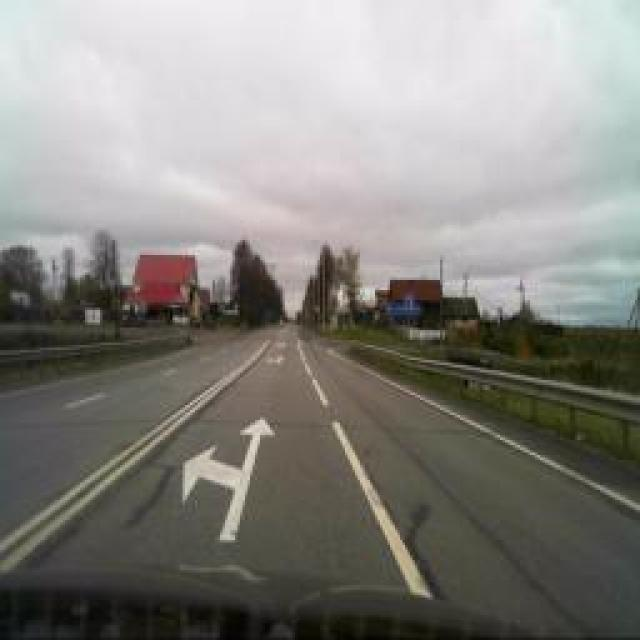sign: (405, 292, 415, 312)
